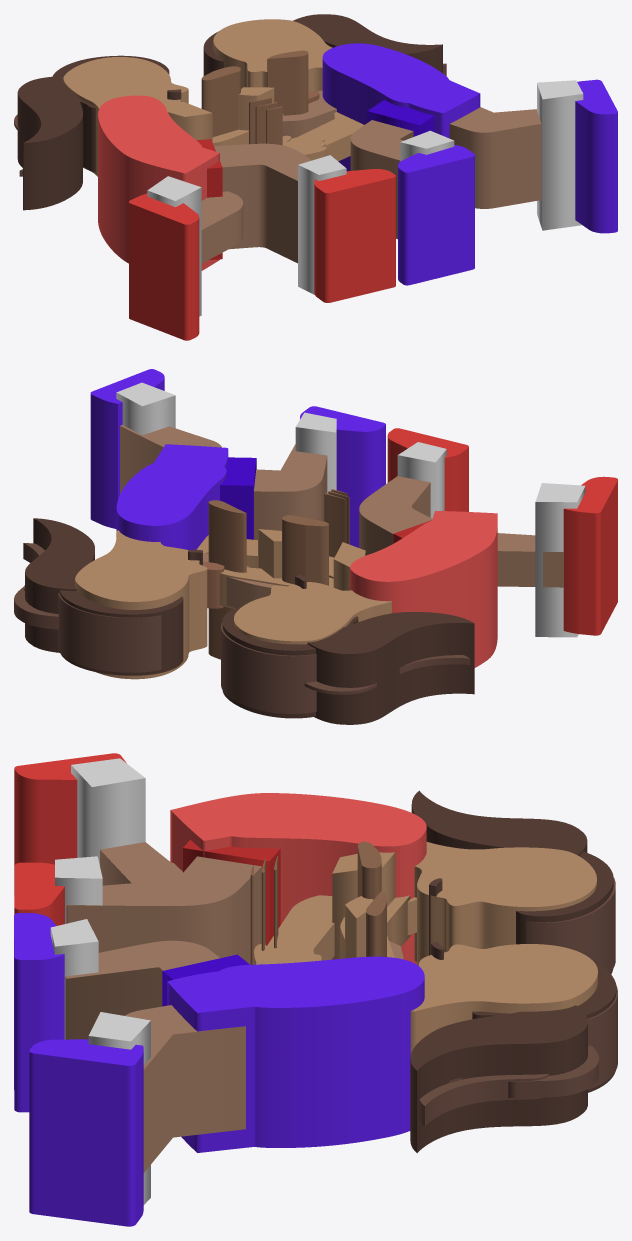
The model's file is emoji_u1f93c_1f3fd_200d_2640.glb.
The picture shows the model from 3 angles, top to bottom: view 1: azimuth 30°, elevation 25°; view 2: azimuth 150°, elevation 25°; view 3: azimuth 270°, elevation 25°; orthographic projection. The views are drawn at different scales.
Parts seen in each view (by area): view 1: emoji_u1f93c_1f3fd_200d_2640; view 2: emoji_u1f93c_1f3fd_200d_2640; view 3: emoji_u1f93c_1f3fd_200d_2640.
Part boxes in pixels (x1,y1,x2,y2): emoji_u1f93c_1f3fd_200d_2640: (14, 14, 617, 340); emoji_u1f93c_1f3fd_200d_2640: (14, 369, 617, 724); emoji_u1f93c_1f3fd_200d_2640: (14, 753, 617, 1226).
Size of the model in its own units: 0.0327 by 0.0096 by 0.0266.
